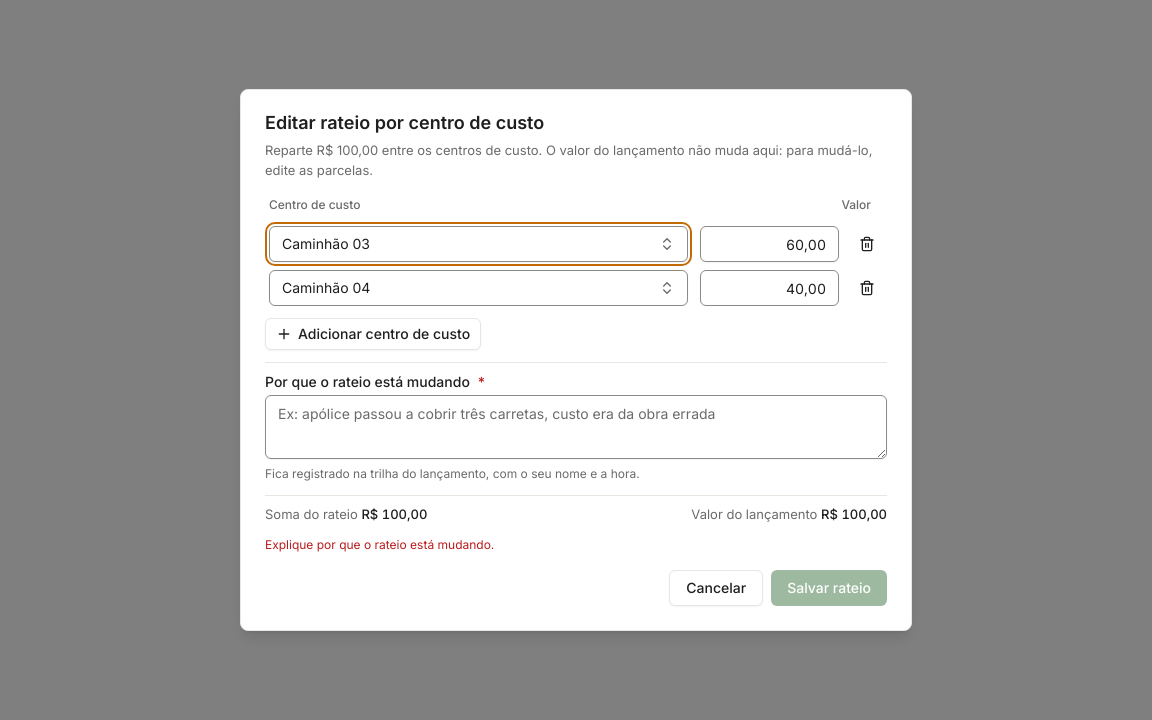
Test case: DefinirRateioDialog › fecha a diferença na última linha quando pedem
Replace the text in the field named "Valor do rateio 1" with "70,00": (769, 244) [700,226,839,262]
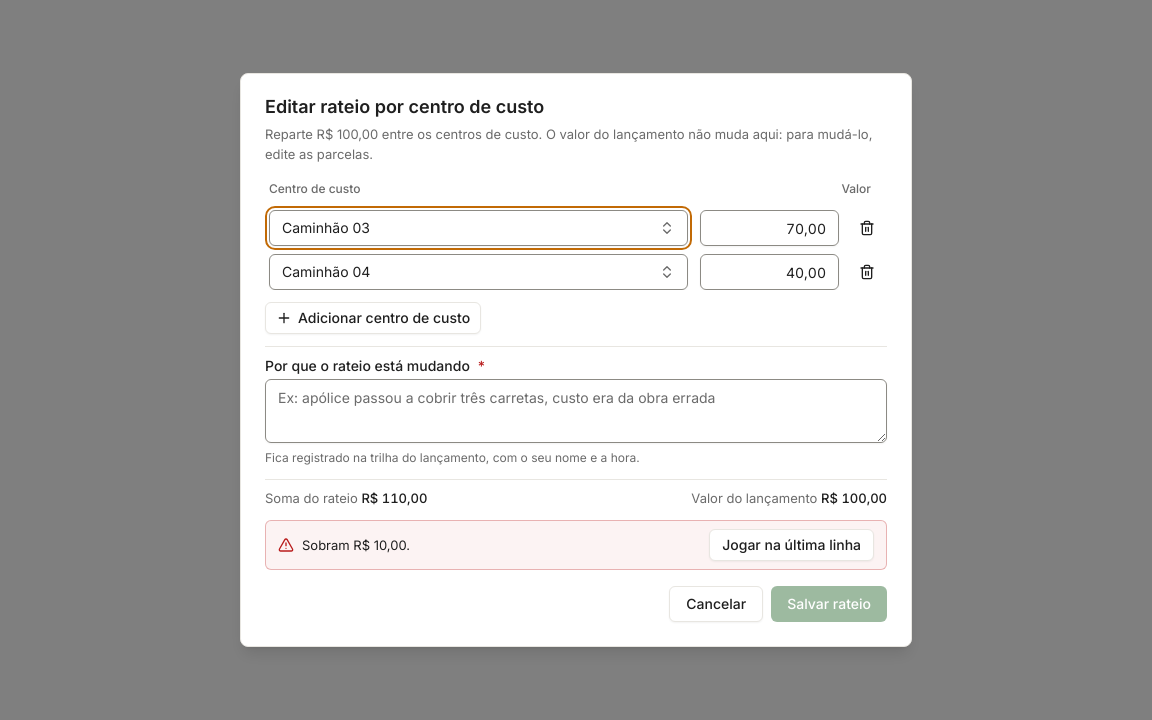
Click the button "Jogar na última linha": (792, 545) [709,529,874,561]
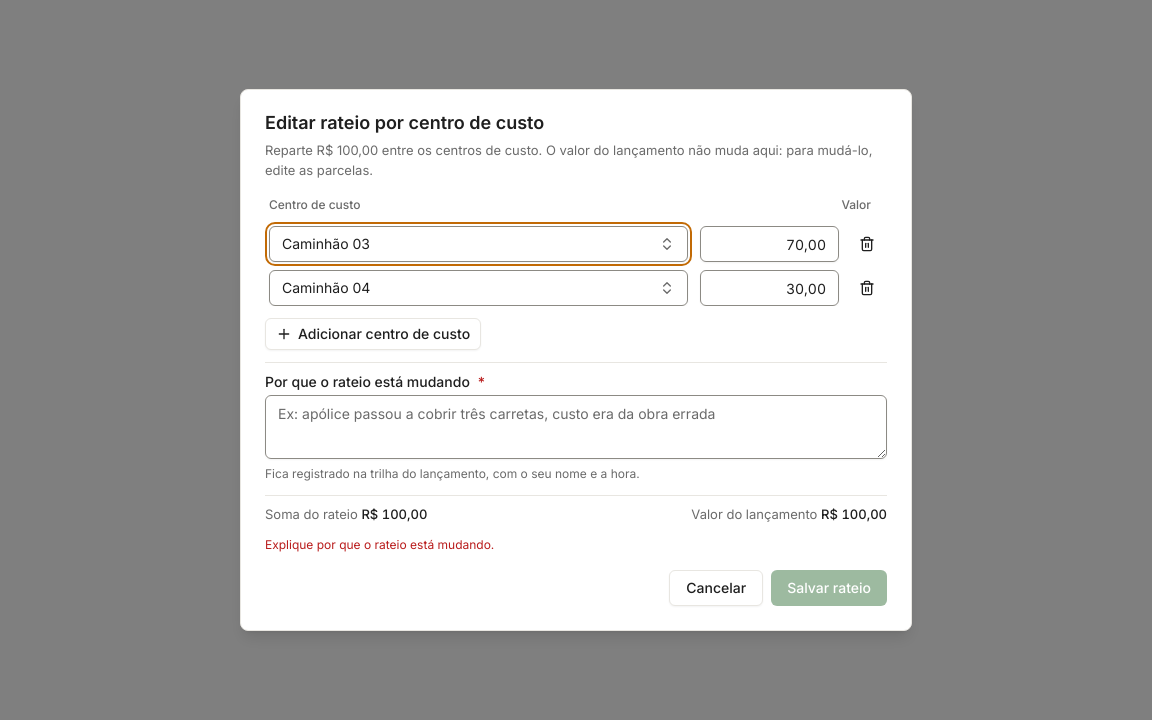
Expected: the field named "Valor do rateio 2" holds "30,00", [700,270,839,306]
